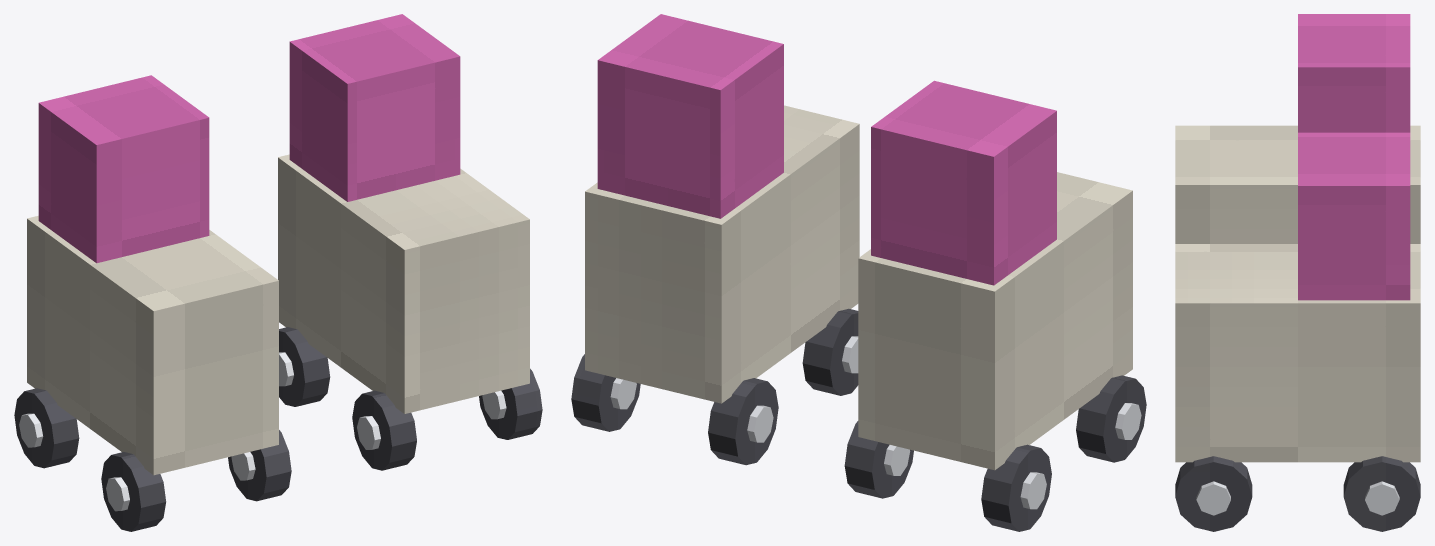
The model's file is retro-arcade-and-mall-1989-roller-skates-41942b4a__15555.glb.
3 views of the same model, side by side, from view 1: azimuth 30°, elevation 25°; view 2: azimuth 150°, elevation 25°; view 3: azimuth 270°, elevation 25° (orthographic). The views are drawn at different scales.
Visible parts, largest first — view 1: roller-skates; view 2: roller-skates; view 3: roller-skates.
Boxes of the visible parts, bbox=[...] form: roller-skates: bbox=[14, 14, 542, 531]; roller-skates: bbox=[571, 14, 1146, 531]; roller-skates: bbox=[1175, 14, 1420, 531].
Bounding box in the file's own units: 0.66 × 0.53 × 0.35.
Materials: 4 (3 with a texture image).
